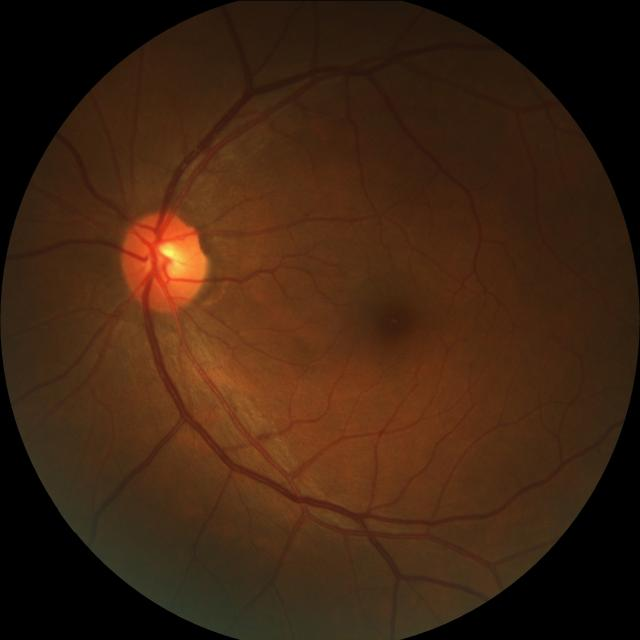OC: (145, 238, 186, 280)
OD: (121, 209, 209, 310)
